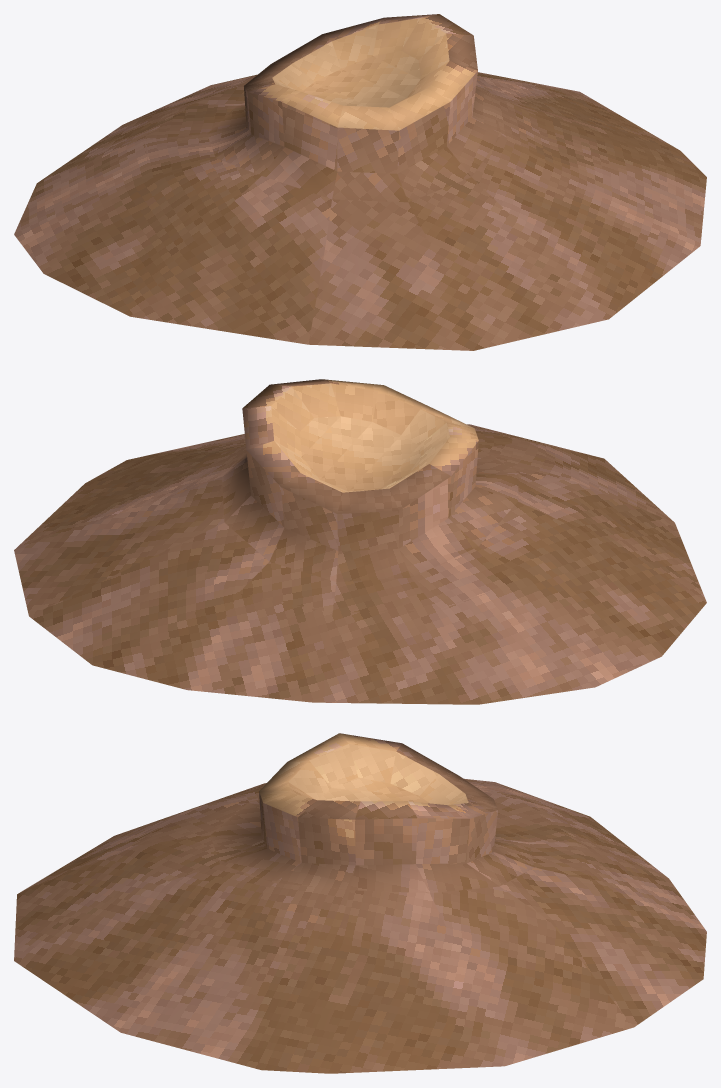
Rendered from candle_stage4.glb.
3 renders of one model, top to bottom at view 1: azimuth 30°, elevation 25°; view 2: azimuth 150°, elevation 25°; view 3: azimuth 270°, elevation 25°, orthographic. The views are drawn at different scales.
Parts seen in each view (by area): view 1: candle_stage4; view 2: candle_stage4; view 3: candle_stage4.
Part boxes in pixels (x1,y1,x2,y2): candle_stage4: [14, 14, 706, 350]; candle_stage4: [14, 379, 706, 704]; candle_stage4: [14, 733, 706, 1073].
Size of the model in its own units: 0.3069 by 0.0777 by 0.2989.
Materials: 1 (1 with a texture image).
